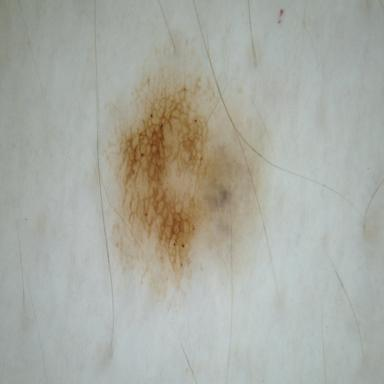nevus: (103, 62, 262, 289)
